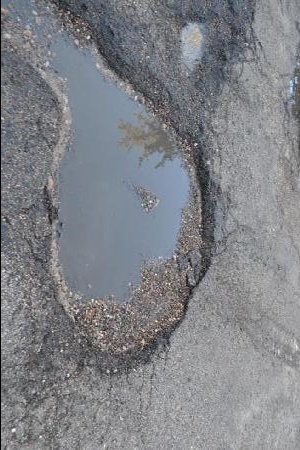pothole: (42, 51, 222, 379), (175, 0, 245, 86), (286, 58, 299, 123)
